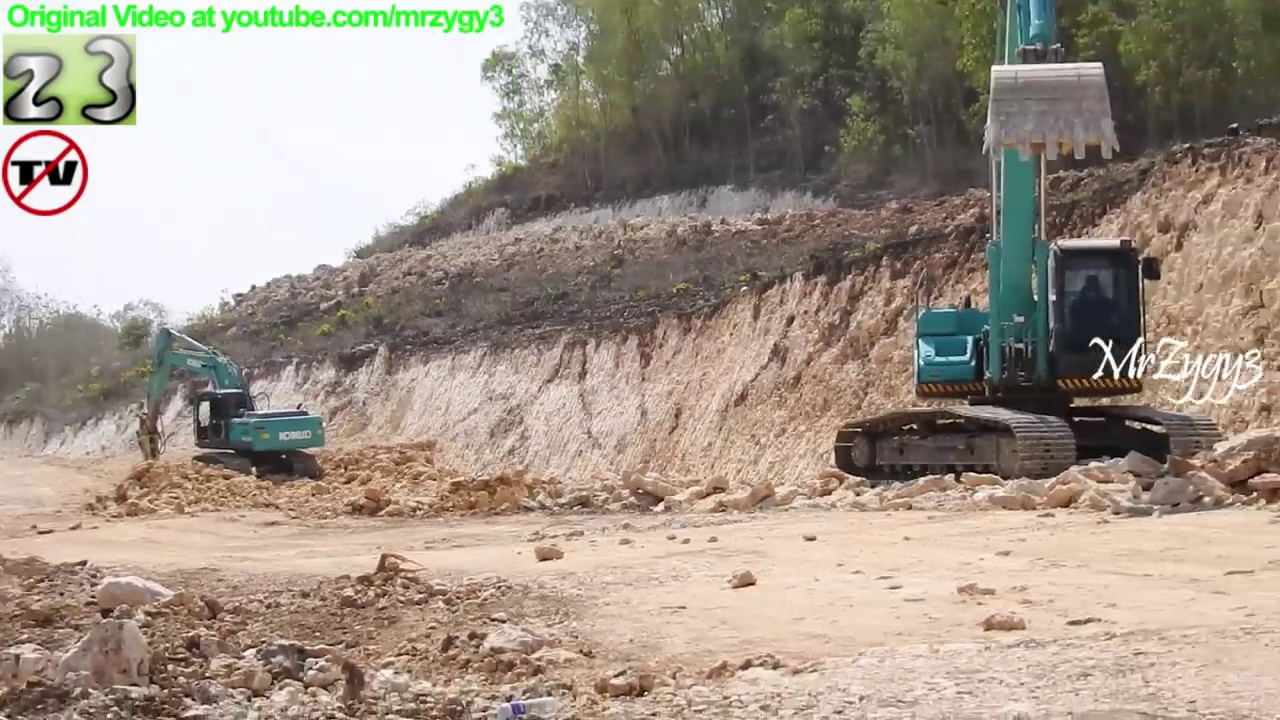excavator: (825, 1, 1230, 495)
excavator breaker: (133, 321, 334, 490)
